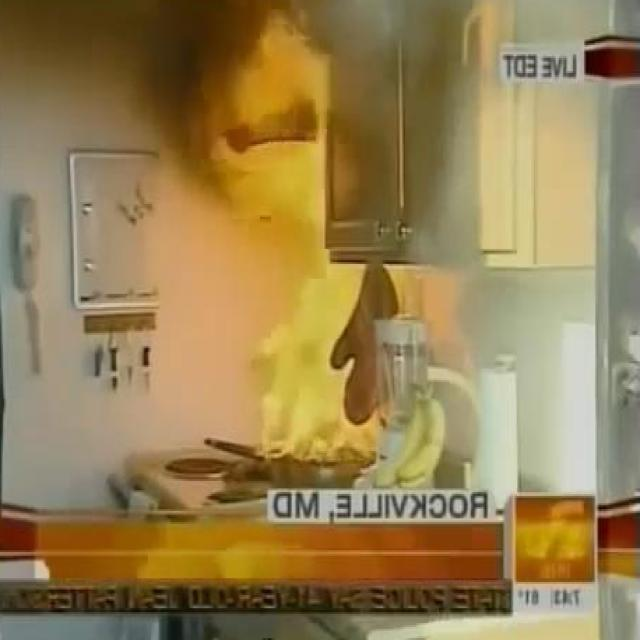smoke: (220, 22, 381, 464)
